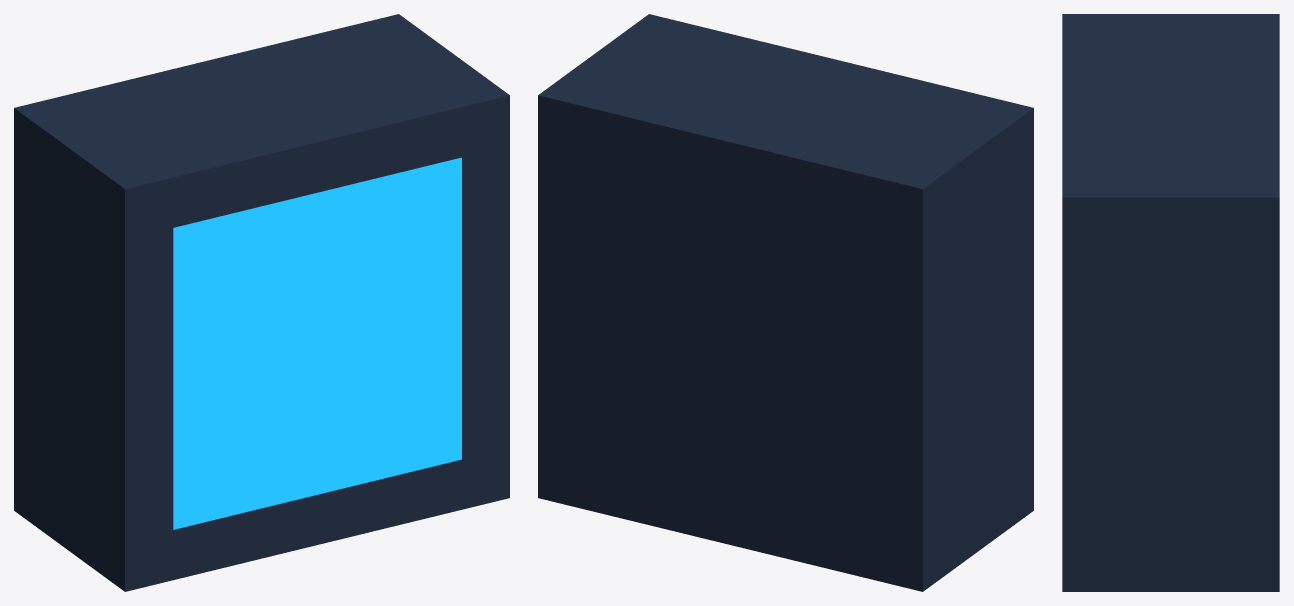
The model's file is KeycardPanelfbx.fbx.
3 renders of one model, left to right at view 1: azimuth 30°, elevation 25°; view 2: azimuth 150°, elevation 25°; view 3: azimuth 270°, elevation 25°, orthographic. The views are drawn at different scales.
Parts seen in each view (by area): view 1: KeycardPanel; view 2: KeycardPanel; view 3: KeycardPanel.
Boxes of the visible parts, x1,y1,x2,y2 form: KeycardPanel: (14,14,509,591); KeycardPanel: (538,14,1033,591); KeycardPanel: (1062,14,1279,591).
Bounding box in the file's own units: 50 × 50 × 25.
